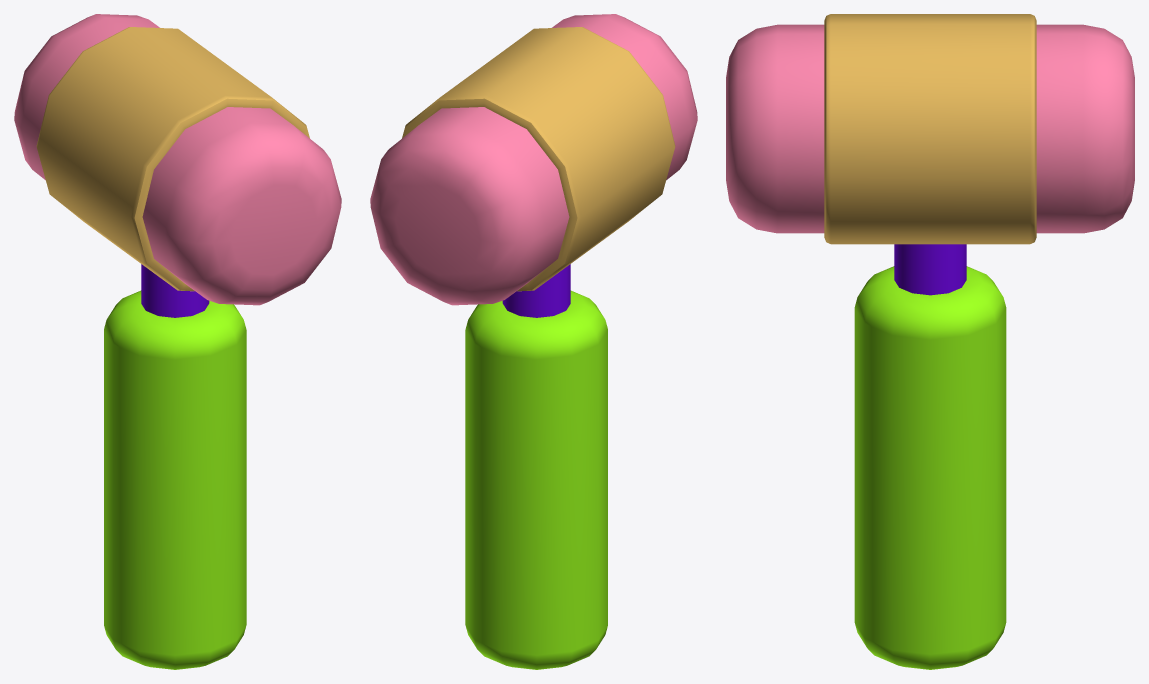
File: Obstacle11.fbx
3 views of the same model, side by side, from view 1: azimuth 30°, elevation 25°; view 2: azimuth 150°, elevation 25°; view 3: azimuth 270°, elevation 25° (orthographic). The views are drawn at different scales.
Visible parts, largest first — view 1: Hammer; view 2: Hammer; view 3: Hammer.
Boxes of the visible parts, x1,y1,x2,y2 form: Hammer: (14, 14, 341, 669); Hammer: (370, 14, 697, 669); Hammer: (726, 14, 1134, 669).
Bounding box in the file's own units: 291 × 872 × 515.
